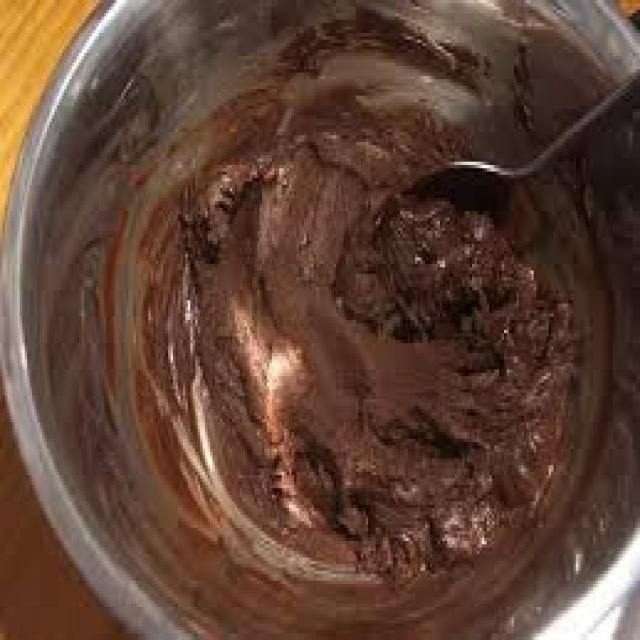Chocolate: (134, 88, 591, 589)
